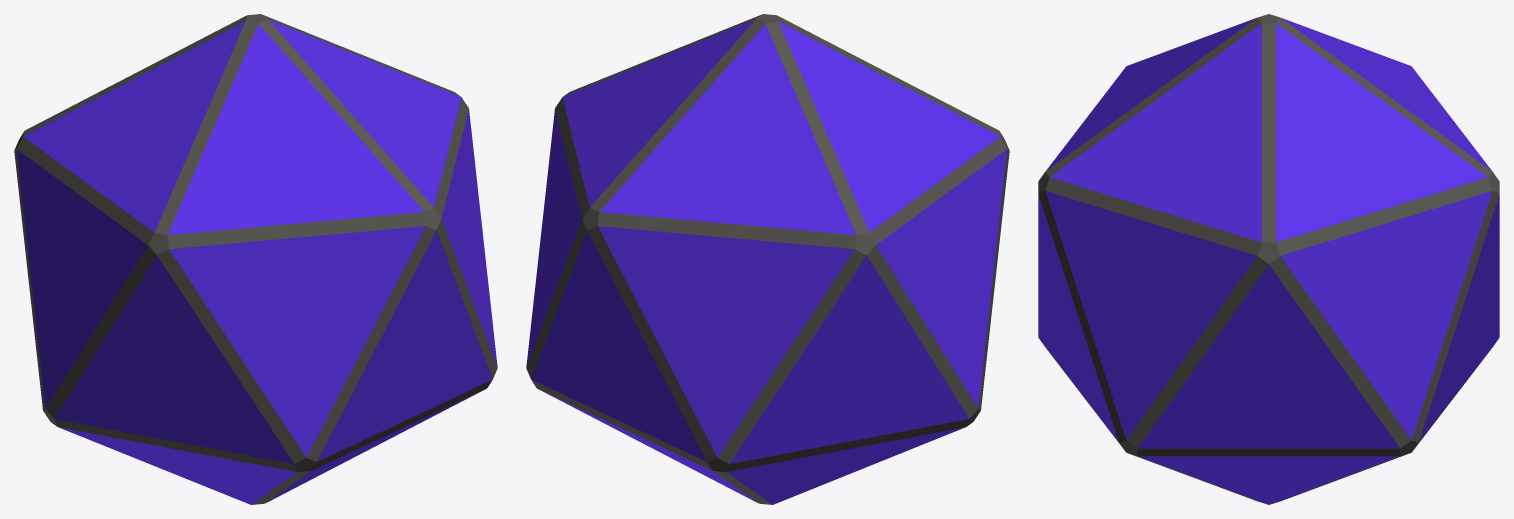
Rendered from Bonus.fbx.
The picture shows the model from 3 angles, left to right: view 1: azimuth 30°, elevation 25°; view 2: azimuth 150°, elevation 25°; view 3: azimuth 270°, elevation 25°; orthographic projection.
Visible parts, largest first — view 1: Icosphere; view 2: Icosphere; view 3: Icosphere.
Boxes of the visible parts, x1,y1,x2,y2 form: Icosphere: [14, 14, 497, 504]; Icosphere: [526, 14, 1009, 504]; Icosphere: [1038, 14, 1499, 504].
Size of the model in its own units: 193 by 211 by 183.
